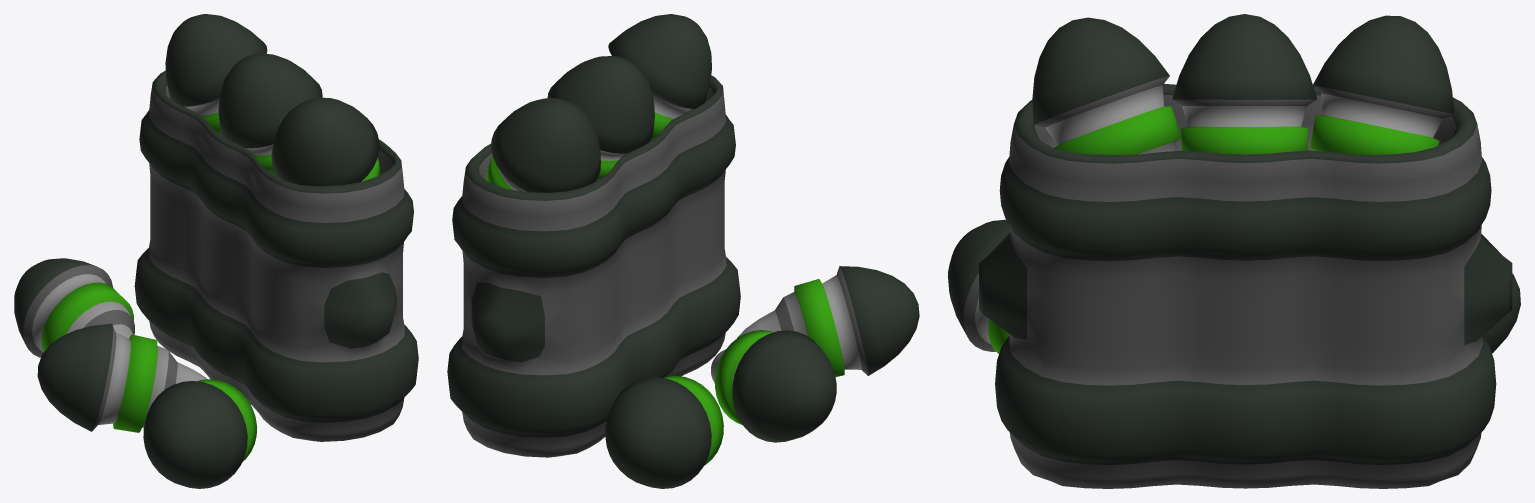
The model's file is MortarsAmmo.fbx.
3 views of the same model, side by side, from view 1: azimuth 30°, elevation 25°; view 2: azimuth 150°, elevation 25°; view 3: azimuth 270°, elevation 25° (orthographic). The views are drawn at different scales.
Parts seen in each view (by area): view 1: Cube, Mortar.005, Mortar.001, Mortar.004, Mortar.006, Mortar.003, Mortar.002; view 2: Cube, Mortar.001, Mortar.005, Mortar.006, Mortar.002, Mortar.004, Mortar.003; view 3: Cube, Mortar.004, Mortar.003, Mortar.002, Mortar.001, Mortar.006.
Boxes of the visible parts, x1,y1,x2,y2 form: Cube: [134, 70, 418, 441]; Mortar.005: [37, 323, 207, 432]; Mortar.001: [143, 379, 256, 488]; Mortar.004: [271, 97, 380, 186]; Mortar.006: [14, 258, 134, 357]; Mortar.003: [218, 54, 322, 175]; Mortar.002: [165, 14, 267, 135]; Cube: [447, 75, 740, 457]; Mortar.001: [737, 266, 919, 376]; Mortar.005: [711, 330, 836, 442]; Mortar.006: [605, 375, 723, 488]; Mortar.002: [486, 98, 600, 192]; Mortar.004: [608, 14, 711, 140]; Mortar.003: [547, 56, 654, 180]; Cube: [979, 83, 1512, 488]; Mortar.004: [1032, 17, 1181, 154]; Mortar.003: [1172, 14, 1317, 154]; Mortar.002: [1310, 15, 1454, 154]; Mortar.001: [948, 219, 1009, 353]; Mortar.006: [1482, 273, 1520, 353].
Bounding box in the file's own units: 132 × 136 × 163.
